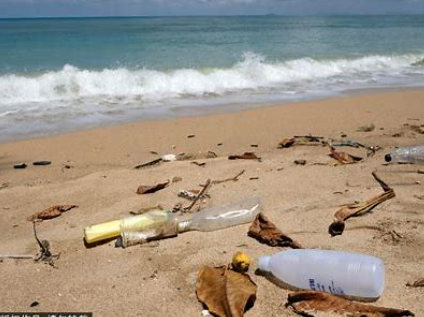garbage: (257, 243, 390, 302), (79, 213, 181, 243), (177, 201, 269, 231), (326, 131, 367, 160), (382, 144, 424, 168), (228, 247, 256, 271), (11, 160, 61, 173), (163, 151, 184, 165)
